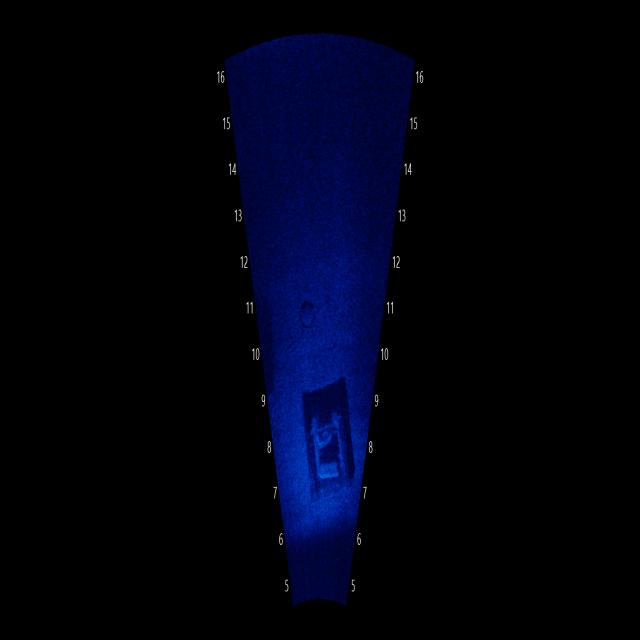square: (299, 354, 356, 524)
